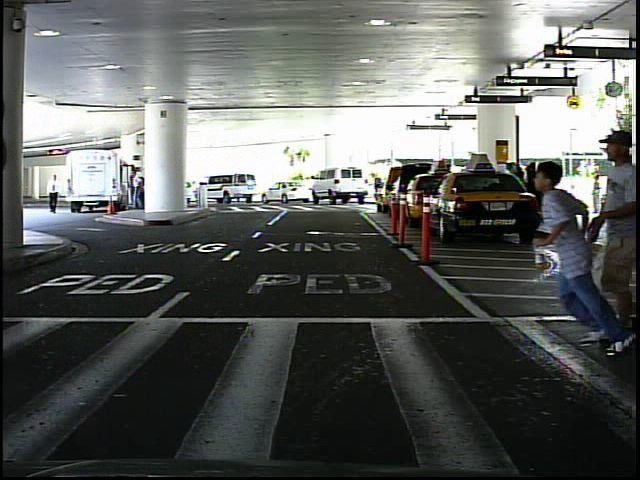person: (538, 160, 610, 363), (588, 172, 607, 218), (47, 173, 64, 217), (372, 171, 386, 201)
